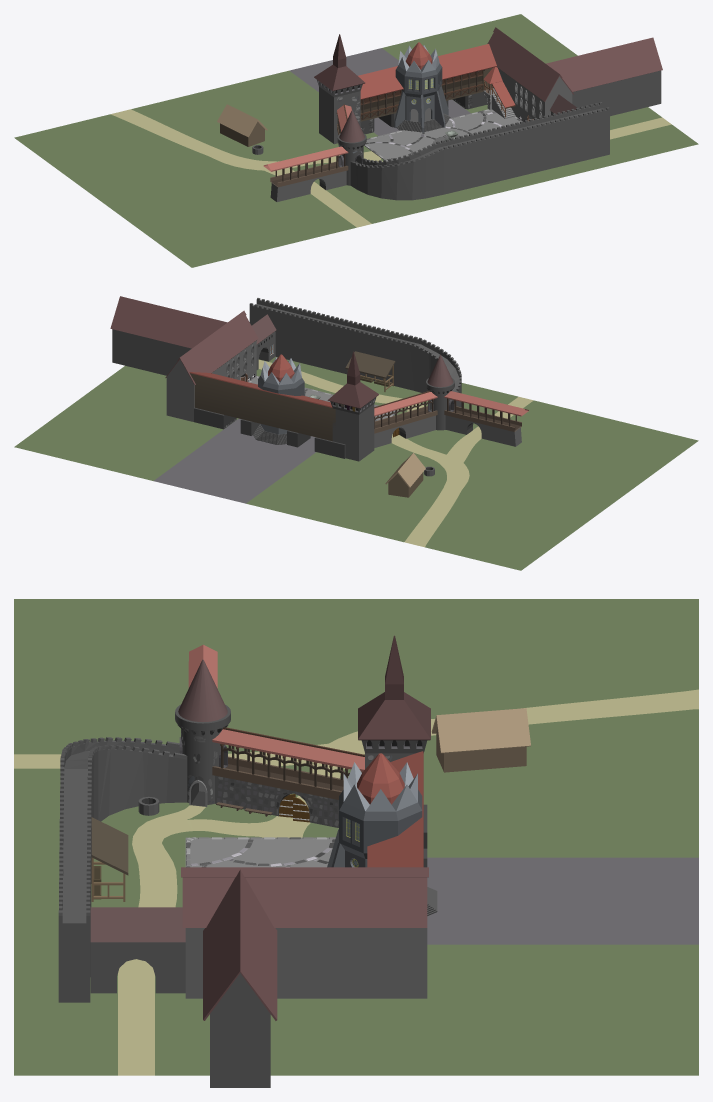
File: SM_CastleYard.fbx
3 renders of one model, top to bottom at view 1: azimuth 30°, elevation 25°; view 2: azimuth 150°, elevation 25°; view 3: azimuth 270°, elevation 25°, orthographic. The views are drawn at different scales.
Parts seen in each view (by area): view 1: Ground, Wall3, Building1, Corridor1, MainTower, Corridor3, Tower1, House, Tower2, Wall1, StairsRoof, MainTowerStairs (+1 smaller); view 2: Ground, Building1, Wall3, Corridor1, Tower1, Corridor3, Corridor2, Wall1, MainTower, Tower2, House, Stables (+1 smaller); view 3: Ground, Building1, Wall3, Corridor2, Gate, MainTower, House, Tower2, Tower1, Corridor1, Stables, Corridor3.
Part boxes in pixels (<box>): Ground: <box>14,14,698,267</box>; Wall3: <box>350,102,609,200</box>; Building1: <box>487,27,662,122</box>; Corridor1: <box>358,44,496,121</box>; MainTower: <box>394,42,448,132</box>; Corridor3: <box>263,146,348,201</box>; Tower1: <box>314,34,365,144</box>; House: <box>217,104,267,146</box>; Tower2: <box>337,110,366,185</box>; Wall1: <box>360,92,487,134</box>; StairsRoof: <box>483,67,515,117</box>; MainTowerStairs: <box>396,108,450,132</box>; Ground: <box>14,356,698,570</box>; Building1: <box>110,296,258,421</box>; Wall3: <box>249,298,461,407</box>; Corridor1: <box>189,372,335,441</box>; Tower1: <box>327,351,378,461</box>; Corridor3: <box>444,391,528,446</box>; Corridor2: <box>374,391,437,447</box>; Wall1: <box>194,408,345,458</box>; MainTower: <box>258,354,304,434</box>; Tower2: <box>426,354,454,430</box>; House: <box>385,453,425,497</box>; Stables: <box>345,351,395,391</box>; Ground: <box>14,599,698,1075</box>; Building1: <box>181,867,428,1087</box>; Wall3: <box>58,737,187,1002</box>; Corridor2: <box>212,727,364,827</box>; Gate: <box>90,907,185,993</box>; MainTower: <box>327,753,422,867</box>; House: <box>431,708,530,772</box>; Tower2: <box>175,659,230,806</box>; Tower1: <box>358,635,430,768</box>; Corridor1: <box>367,751,423,867</box>; Stables: <box>91,817,128,901</box>; Corridor3: <box>188,644,217,688</box>.
Bounding box in the file's own units: 138 × 26.73 × 81.72.
